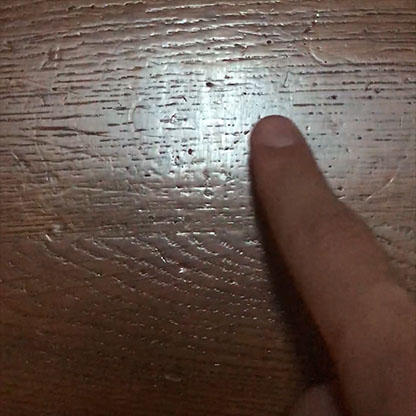fingertip: (243, 104, 313, 170)
